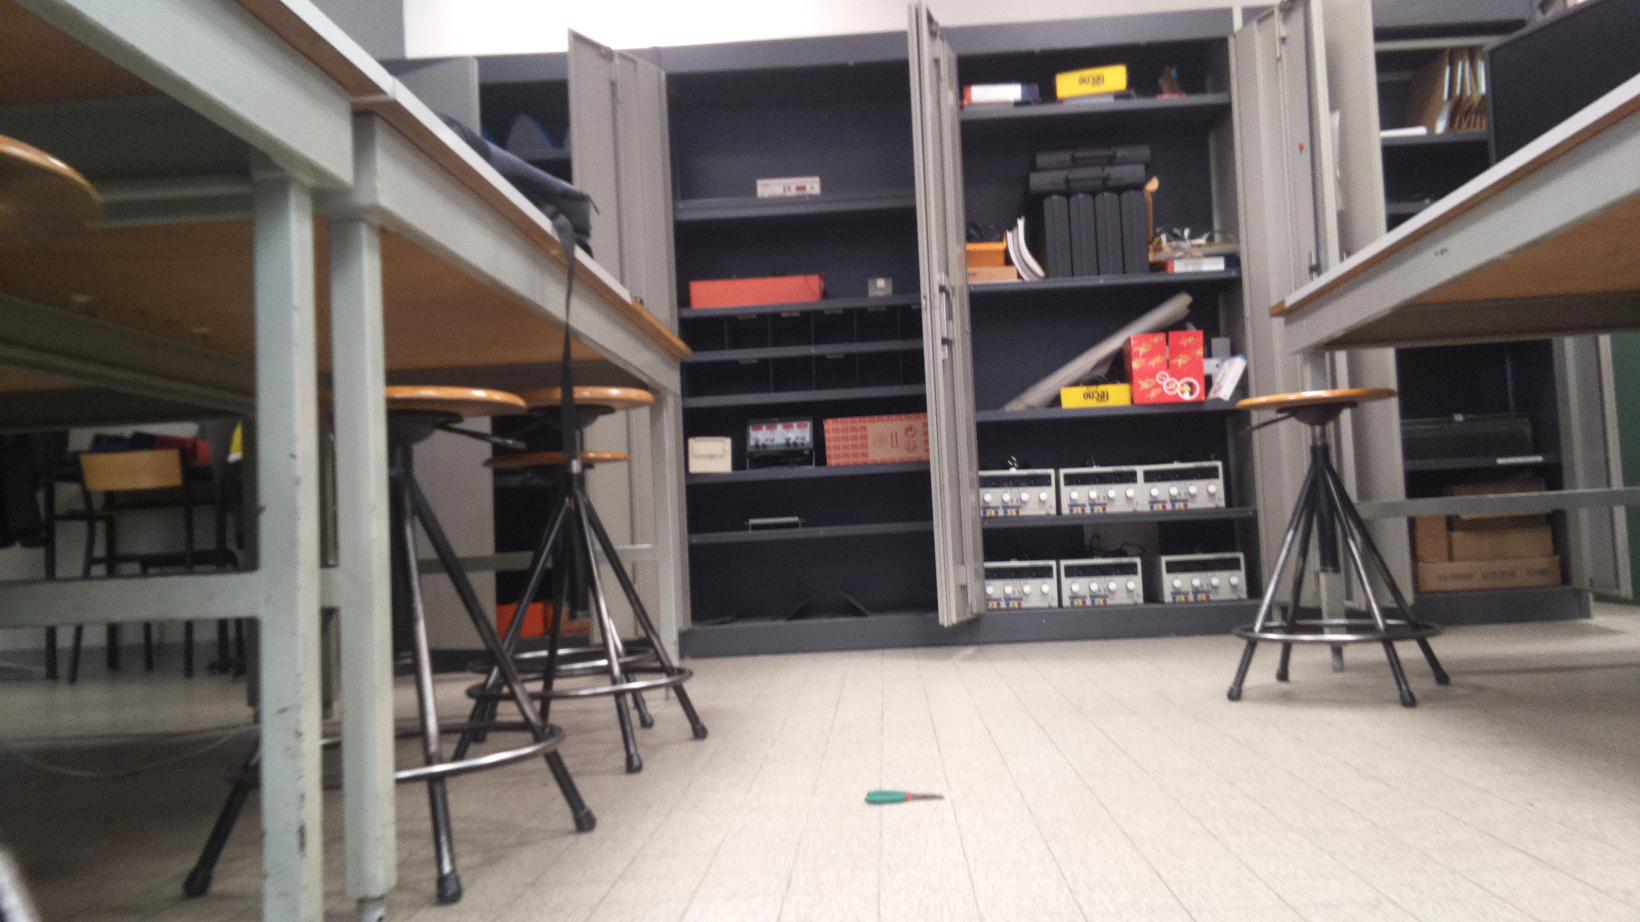small: (861, 784, 946, 808)
